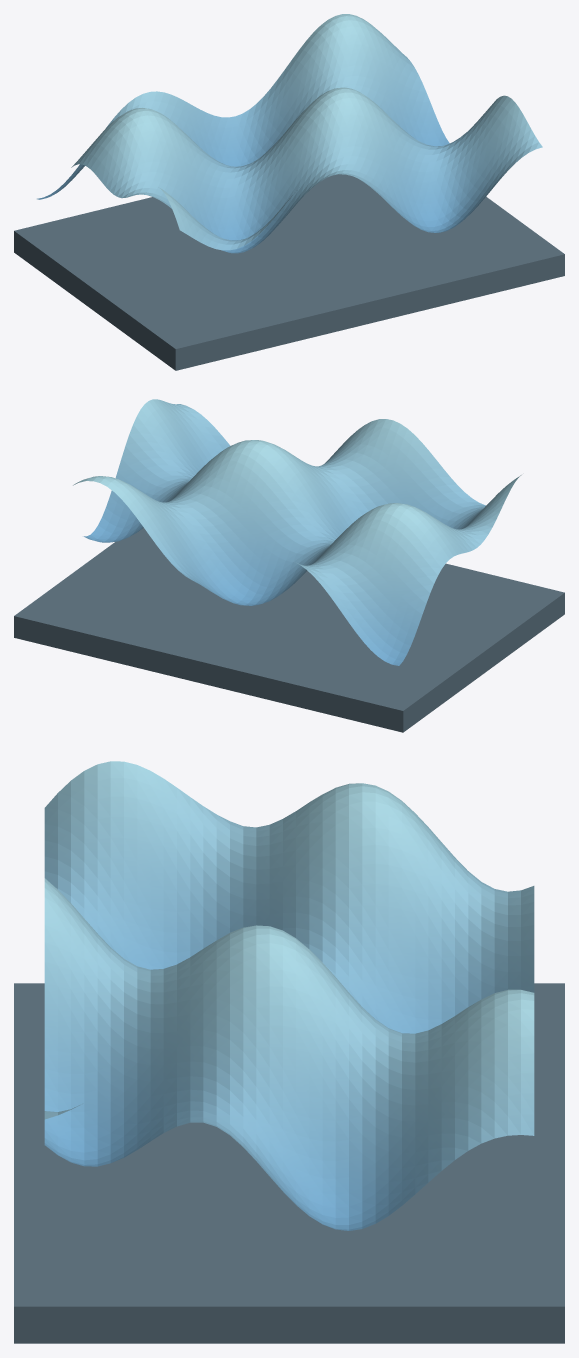
Rendered from wave-surface.glb.
The picture shows the model from 3 angles, top to bottom: view 1: azimuth 30°, elevation 25°; view 2: azimuth 150°, elevation 25°; view 3: azimuth 270°, elevation 25°; orthographic projection. The views are drawn at different scales.
Parts seen in each view (by area): view 1: wave-surface-1, wave-surface-0; view 2: wave-surface-0, wave-surface-1; view 3: wave-surface-0, wave-surface-1.
Part boxes in pixels (x1=…): wave-surface-1: x1=14, y1=174, x2=564, y2=370; wave-surface-0: x1=37, y1=14, x2=542, y2=253; wave-surface-0: x1=73, y1=399, x2=521, y2=665; wave-surface-1: x1=14, y1=528, x2=564, y2=732; wave-surface-0: x1=44, y1=761, x2=534, y2=1230; wave-surface-1: x1=14, y1=983, x2=564, y2=1343.
Size of the model in its own units: 2.25 by 0.9293 by 1.62.
